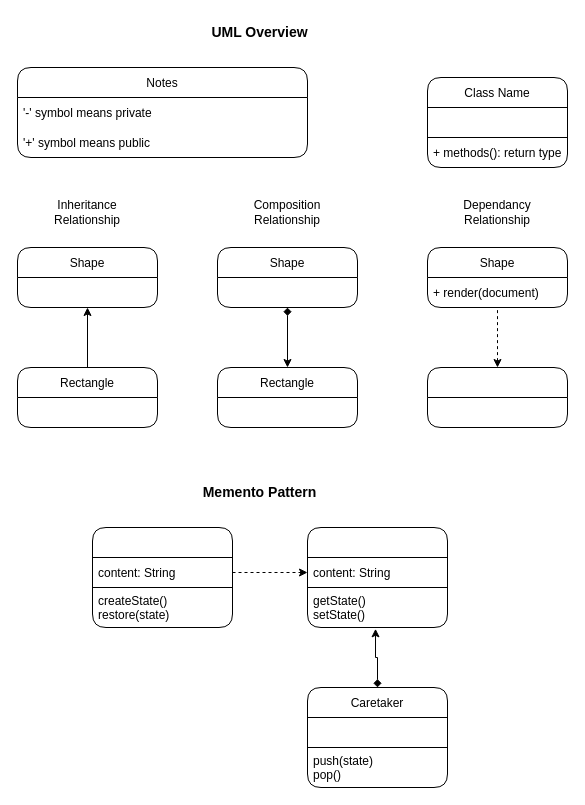
The diagram is 585 pixels wide and 805 high, and some of its shapes have lost their labels. The shapes that lost their labels are listed below. From the top down, each one's box as (x1, y1, x2, y2) in pixels, then its label:
(426, 106, 568, 138): - field names: type
(426, 366, 568, 428): Document
(92, 526, 232, 628): Originator
(306, 526, 448, 628): Memento
(306, 716, 448, 748): states: List
